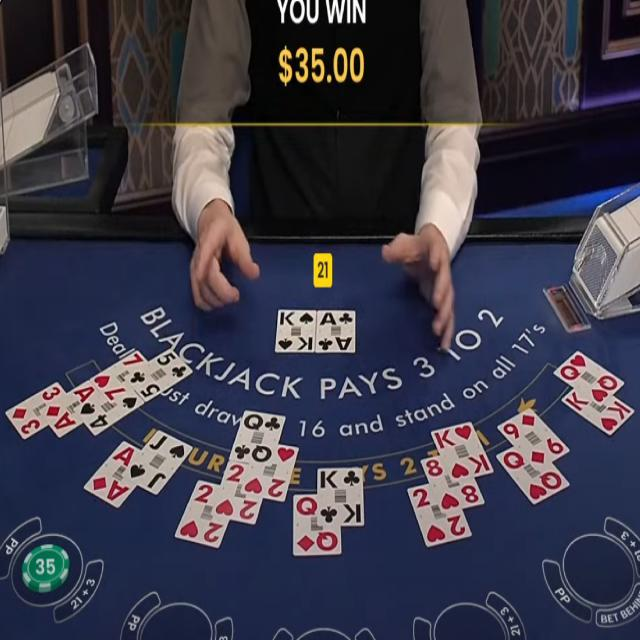Card-2: (407, 483, 472, 548), (174, 479, 229, 549), (242, 445, 299, 502), (213, 460, 262, 525)
Card-3: (5, 380, 66, 439)
Card-4: (74, 388, 144, 438)
Card-5: (125, 347, 193, 402)
Card-7: (90, 349, 147, 403)
Card-8: (420, 455, 485, 512)
Card-9: (497, 407, 569, 471)
Card-A: (84, 440, 140, 509), (39, 380, 100, 439), (315, 309, 355, 353)
Card-J: (122, 429, 193, 496)
Card-K: (431, 420, 494, 482), (561, 389, 635, 437), (317, 468, 364, 526), (275, 308, 316, 352)
Card-Q: (496, 446, 570, 505), (553, 350, 624, 406), (229, 410, 286, 467), (293, 493, 341, 555)
